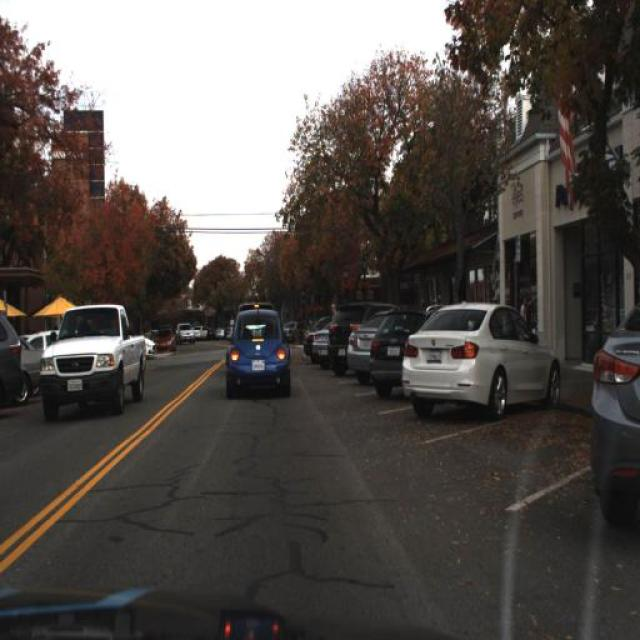car: (400, 300, 562, 416), (40, 302, 148, 419), (590, 307, 640, 538), (366, 299, 440, 399), (226, 308, 292, 392), (348, 306, 417, 386), (332, 303, 384, 379), (1, 306, 22, 416)
